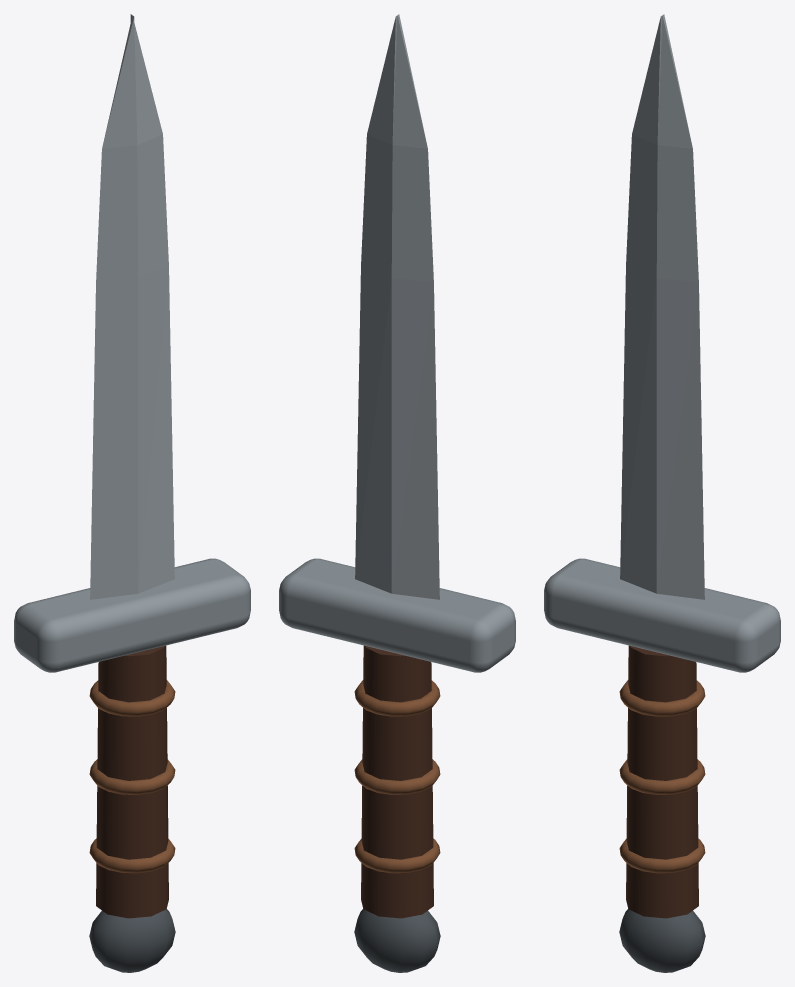
The model's file is dagger.glb.
3 views of the same model, side by side, from view 1: azimuth 30°, elevation 25°; view 2: azimuth 150°, elevation 25°; view 3: azimuth 330°, elevation 25° (orthographic).
Parts seen in each view (by area): view 1: dagger-blade, dagger-crossguard, dagger-grip, dagger-grip-wrap (×3), dagger-pommel; view 2: dagger-blade, dagger-crossguard, dagger-grip, dagger-grip-wrap (×3), dagger-pommel; view 3: dagger-blade, dagger-crossguard, dagger-grip, dagger-grip-wrap (×3), dagger-pommel.
Part boxes in pixels (left/top/right/bottom): dagger-blade: left=90, top=14, right=174, bottom=599; dagger-crossguard: left=14, top=558, right=250, bottom=672; dagger-grip: left=96, top=645, right=168, bottom=918; dagger-grip-wrap (×3): left=89, top=680, right=175, bottom=873; dagger-pommel: left=89, top=909, right=175, bottom=972; dagger-blade: left=355, top=14, right=439, bottom=599; dagger-crossguard: left=279, top=558, right=515, bottom=672; dagger-grip: left=361, top=645, right=433, bottom=918; dagger-grip-wrap (×3): left=354, top=680, right=440, bottom=873; dagger-pommel: left=354, top=909, right=440, bottom=972; dagger-blade: left=620, top=14, right=704, bottom=599; dagger-crossguard: left=544, top=558, right=780, bottom=672; dagger-grip: left=626, top=645, right=698, bottom=918; dagger-grip-wrap (×3): left=619, top=680, right=705, bottom=873; dagger-pommel: left=619, top=909, right=705, bottom=972.
Bounding box in the file's own units: 0.0661 × 0.2844 × 0.0234.
